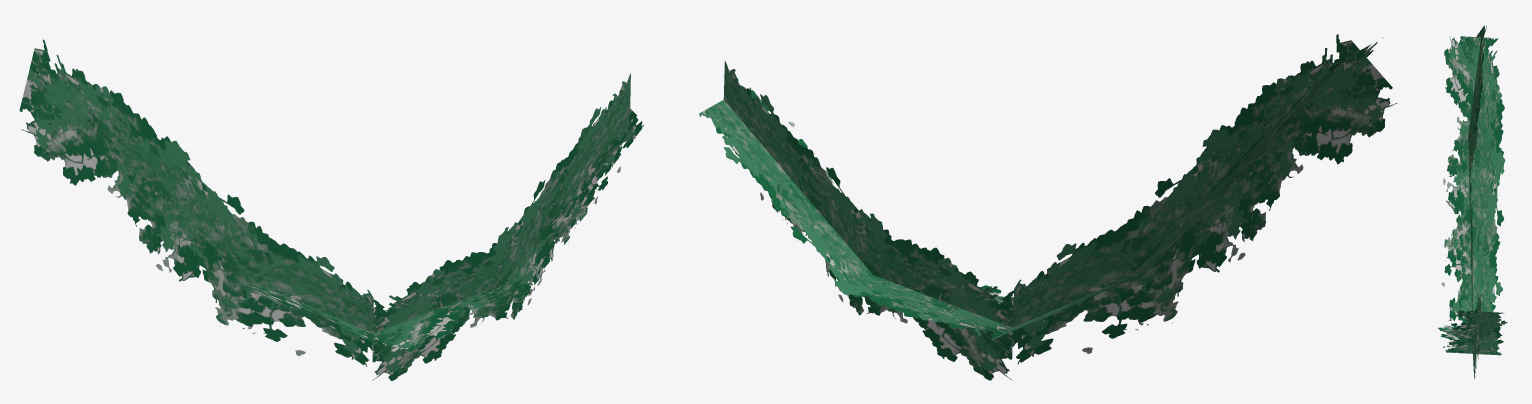
The model's file is Wreath04_Art.fbx.
3 renders of one model, left to right at view 1: azimuth 30°, elevation 25°; view 2: azimuth 150°, elevation 25°; view 3: azimuth 270°, elevation 25°, orthographic. The views are drawn at different scales.
Visible parts, largest first — view 1: Wreath04_Art; view 2: Wreath04_Art; view 3: Wreath04_Art.
Part boxes in pixels (left/top/right/bottom): Wreath04_Art: left=19, top=39, right=643, bottom=380; Wreath04_Art: left=699, top=34, right=1397, bottom=380; Wreath04_Art: left=1438, top=25, right=1507, bottom=379.
Bounding box in the file's own units: 2.46 × 1.63 × 0.4703.
